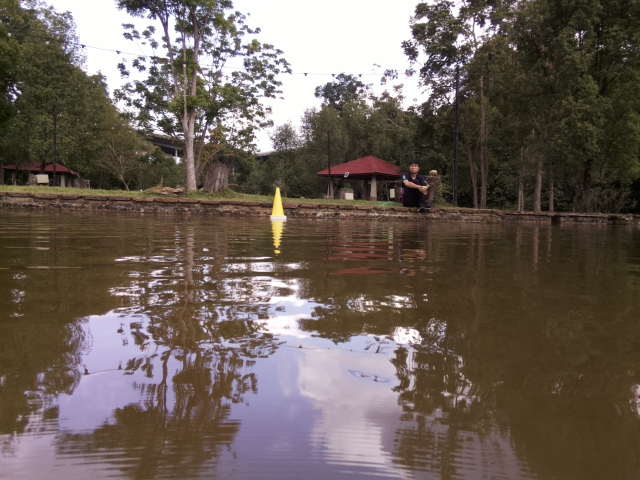checkpoint: (267, 186, 288, 222)
